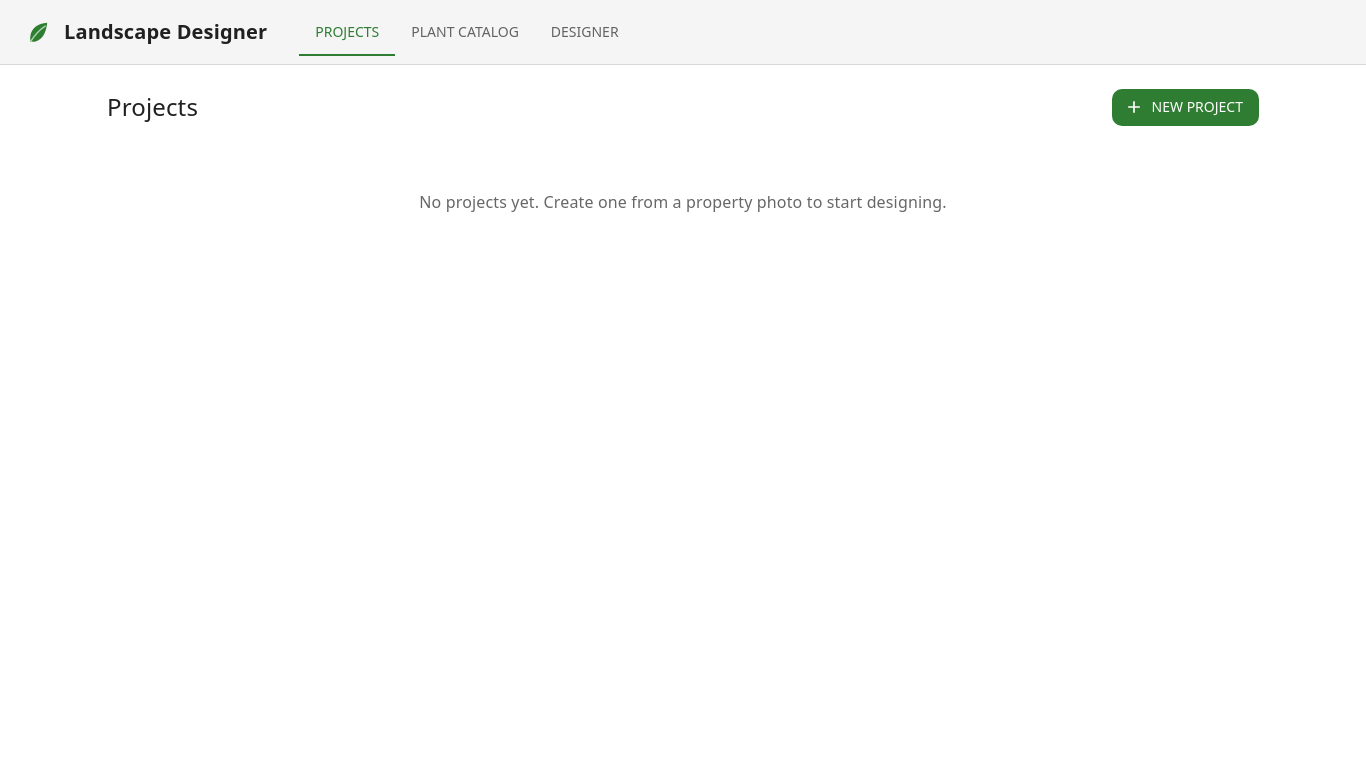
Test: App shell › switches views when a tab is selected
Check: the text "No projects yet. Create one from a property photo to start designing." is shown, box [419,190,947,212]
Click the tab "Plant Catalog" at (465, 32), box [395,8,535,56]
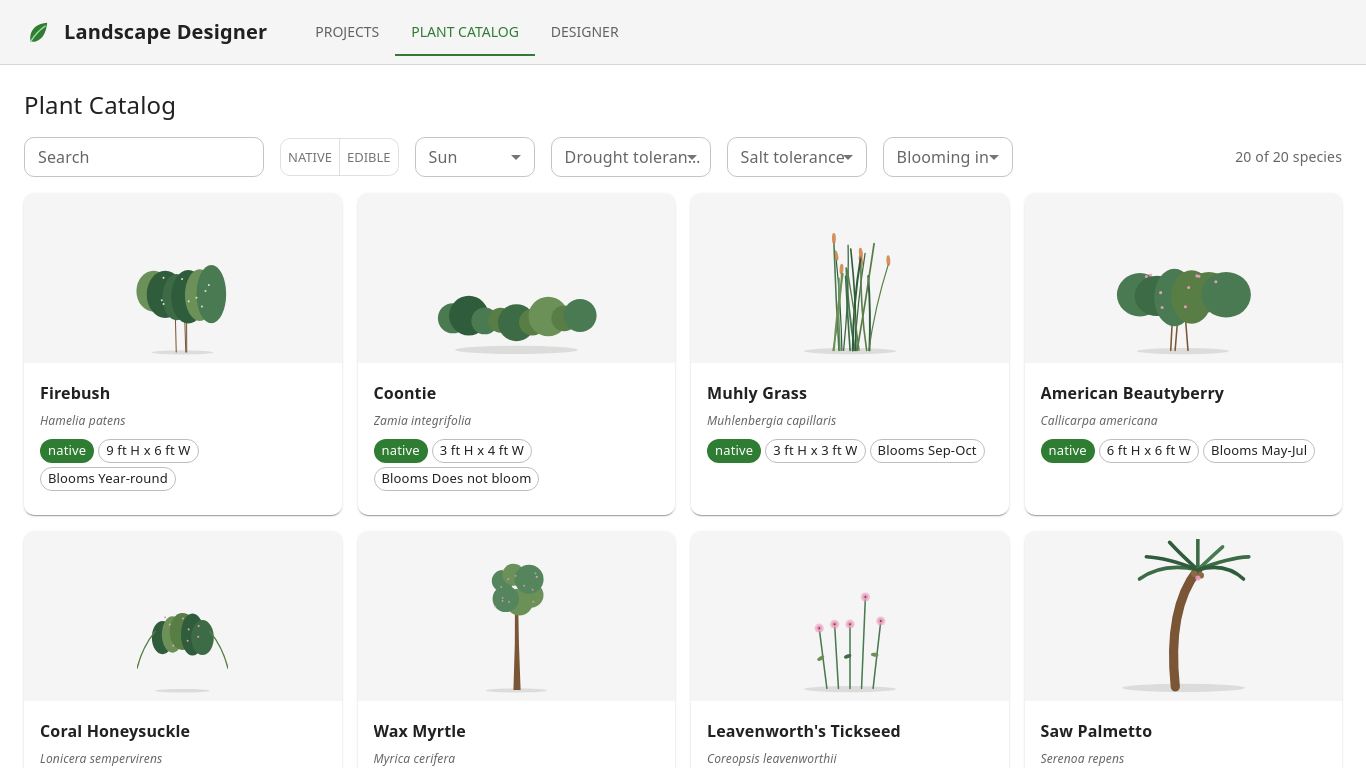
Check: the heading "Plant Catalog" is shown, box [24,88,176,121]
